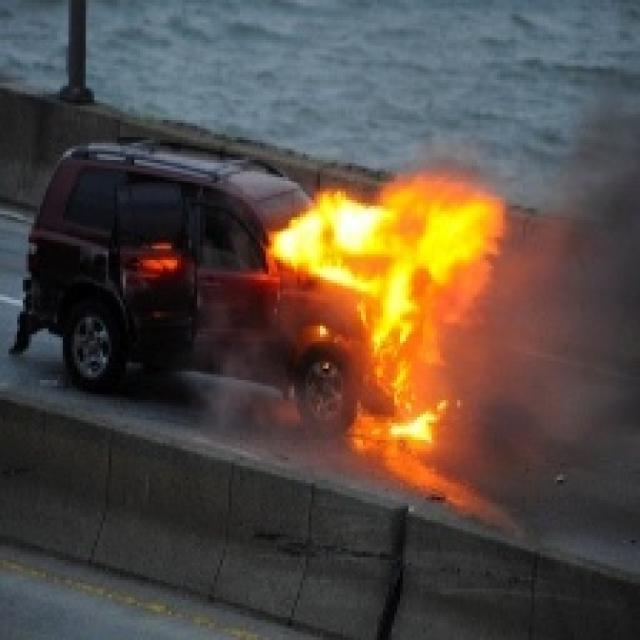Fire: (276, 188, 492, 340), (387, 410, 437, 448)
